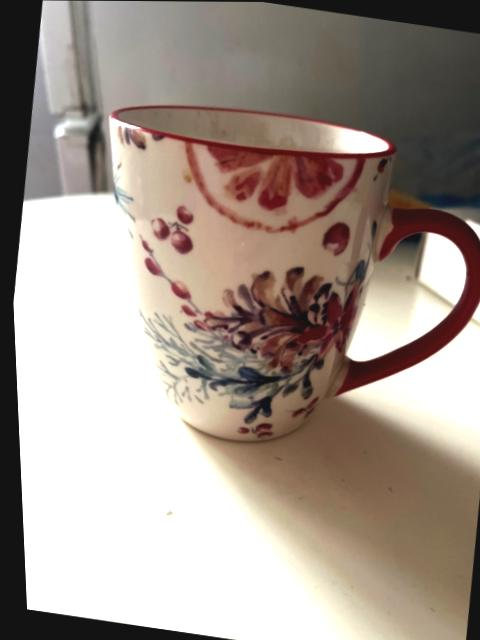Cup: (110, 106, 479, 440)
